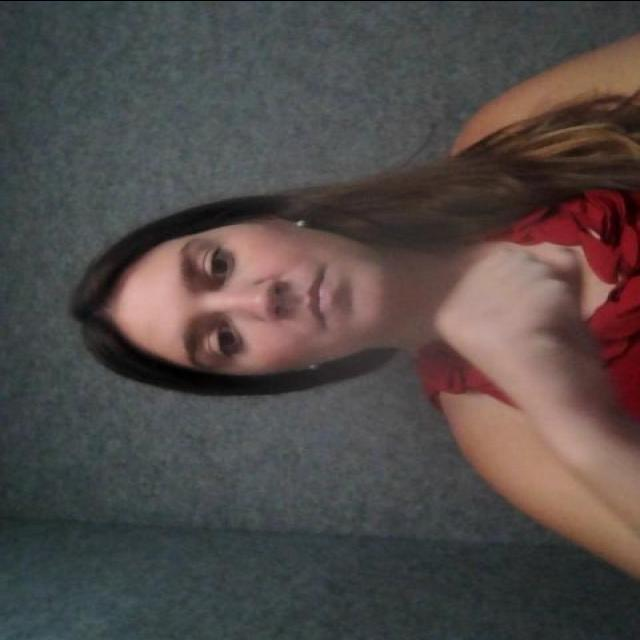Rock: (406, 184, 638, 474)
